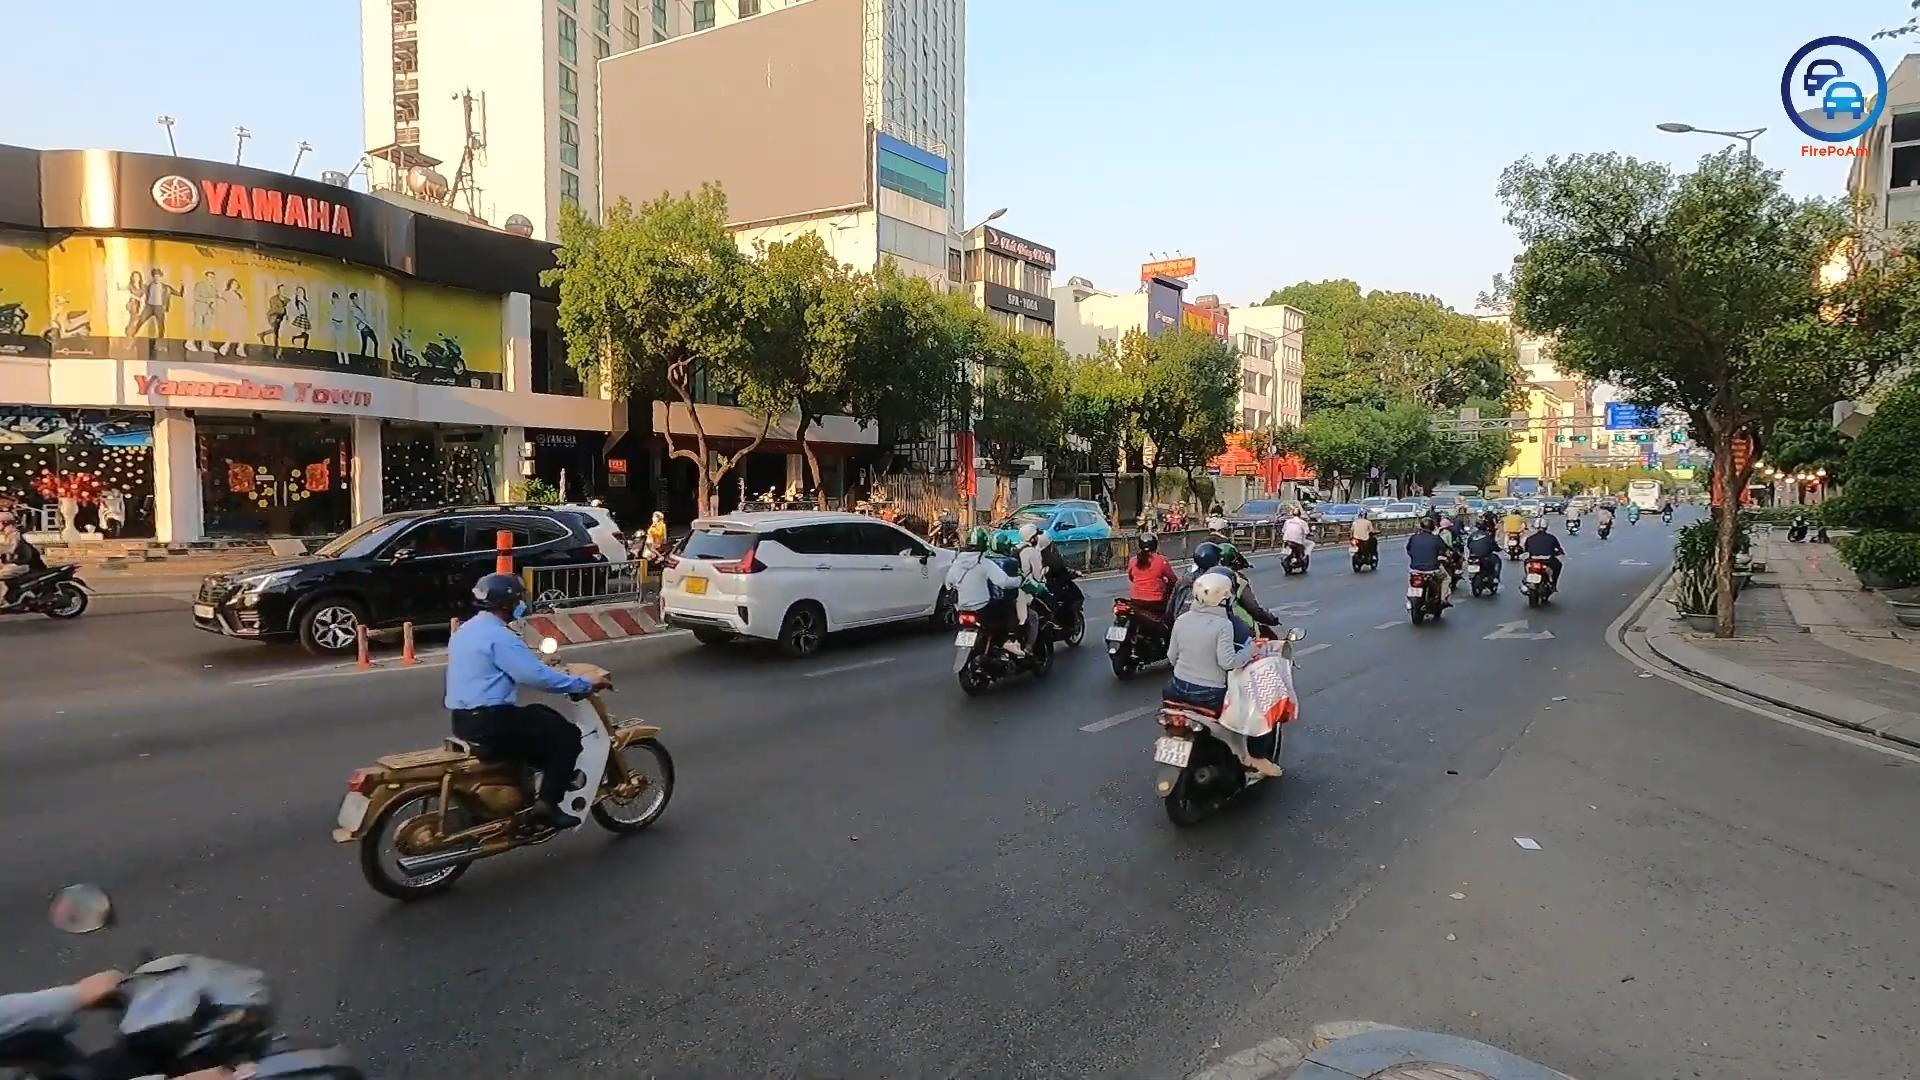bien_so: (335, 789, 372, 832), (1153, 736, 1193, 768), (683, 575, 708, 595), (953, 630, 979, 648), (1104, 626, 1129, 642)
